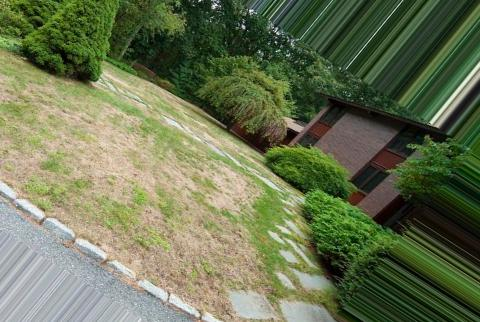patch: (7, 117, 127, 171), (48, 175, 155, 218), (169, 222, 245, 282), (178, 169, 246, 205)
